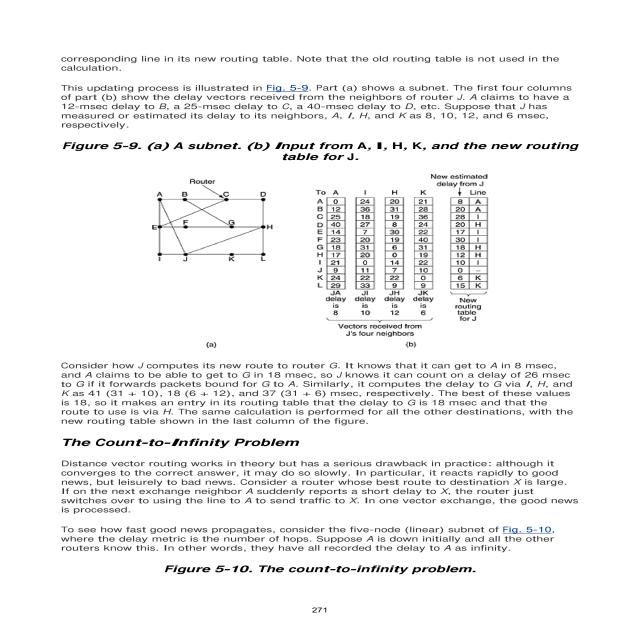diagram: (37, 140, 640, 357)
